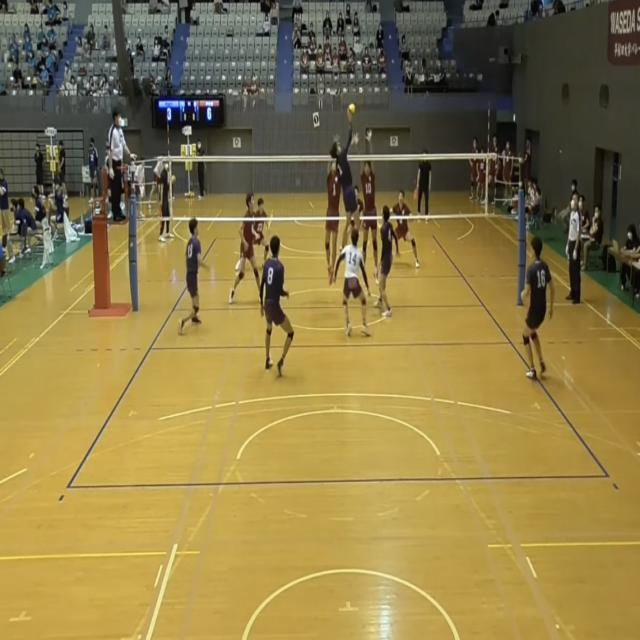spike: (330, 101, 366, 263)
